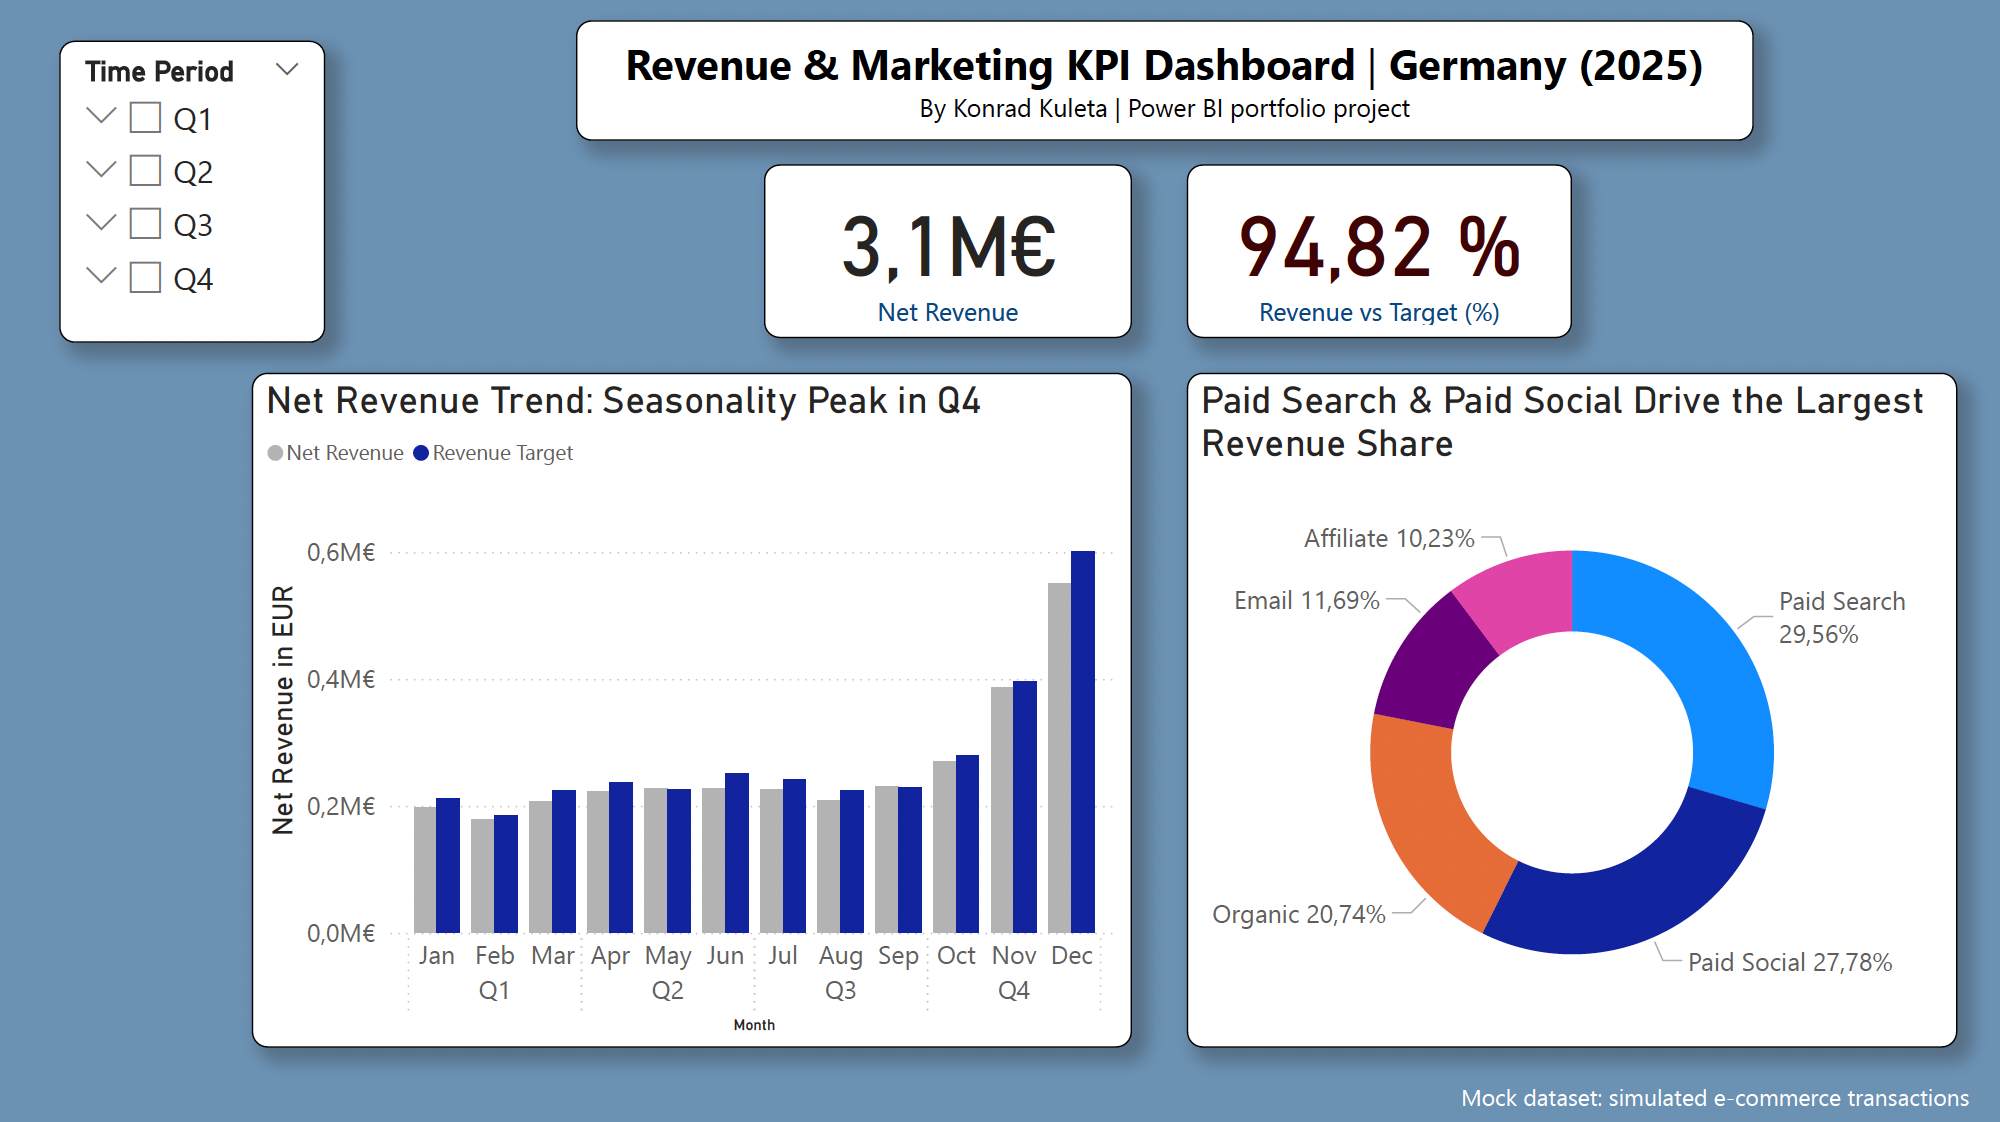

Layout of this report page (visuals, bound fields, positions):
{"tool":"powerbi","page":{"name":"Revenue","canvas":[1280,720],"ordinal":0},"visuals":[{"type":"clusteredColumnChart","title":"Net Revenue Trend: Seasonality Peak in Q4","fields":{"Category":["dim_date.date Hierarchy.quarter","dim_date.date Hierarchy.month_name_en","dim_date.date Hierarchy.date"],"Y":["Sum(fact_orders.order_net_revenue)","_MEASURES.Revenue Target"]},"box":[161.1,241.6,561.6,431],"z":0},{"type":"textbox","box":[368,17.4,751.6,76.7],"z":1000},{"type":"card","fields":{"Values":["_MEASURES.Revenue % of Target"]},"box":[757.6,108.8,246,111],"z":2000},{"type":"donutChart","title":"Paid Search & Paid Social Drive the Largest Revenue Share","fields":{"Y":["Sum(fact_orders.order_net_revenue)"],"Category":["fact_orders.channel"]},"box":[757.6,241.6,492,431],"z":3000},{"type":"card","fields":{"Values":["Sum(fact_orders.order_net_revenue)"]},"box":[487.6,108.8,235.1,111],"z":4000},{"type":"slicer","fields":{"Values":["dim_date.date Hierarchy.quarter","dim_date.date Hierarchy.month_name_en","dim_date.date Hierarchy.date"]},"box":[38.3,29.6,169.8,193.7],"z":5000},{"type":"textbox","box":[927.7,688.8,352.3,31.4],"z":6000}]}

Visuals, with their boxes in screenshot pixels (x1, y1, x2, y2), scaled from the page's 1280x720 canvas onto the 2000x1122 screenshot:
"Net Revenue Trend: Seasonality Peak in Q4" clusteredColumnChart: detection(252, 376, 1129, 1048)
textbox: detection(575, 27, 1749, 147)
card - _MEASURES.Revenue % of Target: detection(1184, 170, 1568, 343)
"Paid Search & Paid Social Drive the Largest Revenue Share" donutChart: detection(1184, 376, 1952, 1048)
card - Sum(fact_orders.order_net_revenue): detection(762, 170, 1129, 343)
slicer - dim_date.date Hierarchy.quarter x dim_date.date Hierarchy.month_name_en: detection(60, 46, 325, 348)
textbox: detection(1450, 1073, 1999, 1121)
